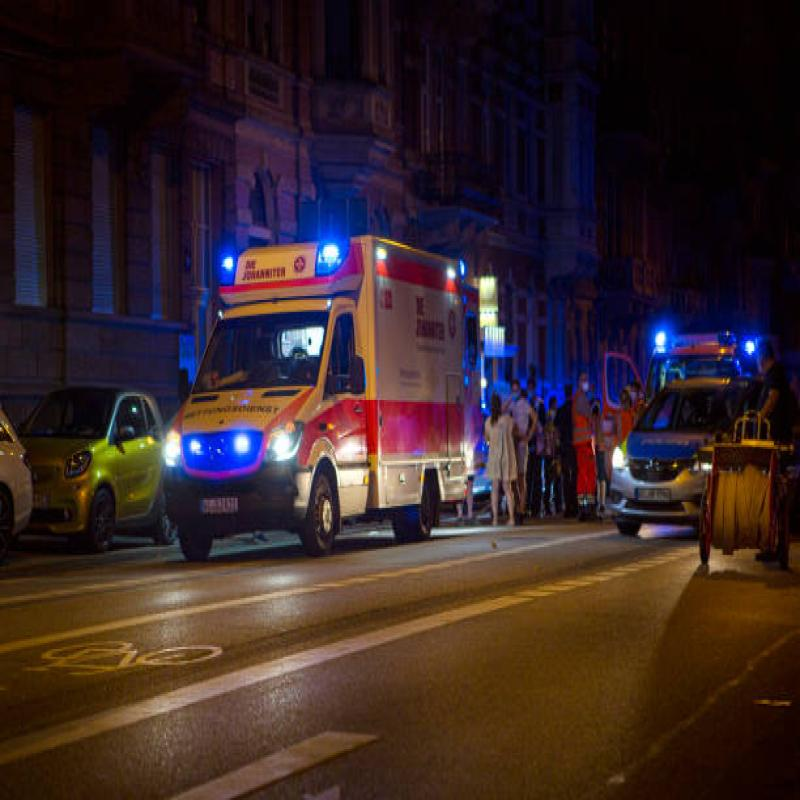AmbulanceSiren: (211, 234, 350, 294), (648, 327, 739, 367)
